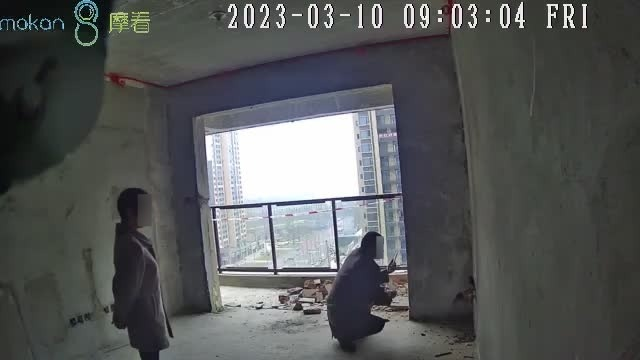people: (111, 189, 174, 360), (328, 231, 396, 354)
window: (212, 193, 407, 273)
